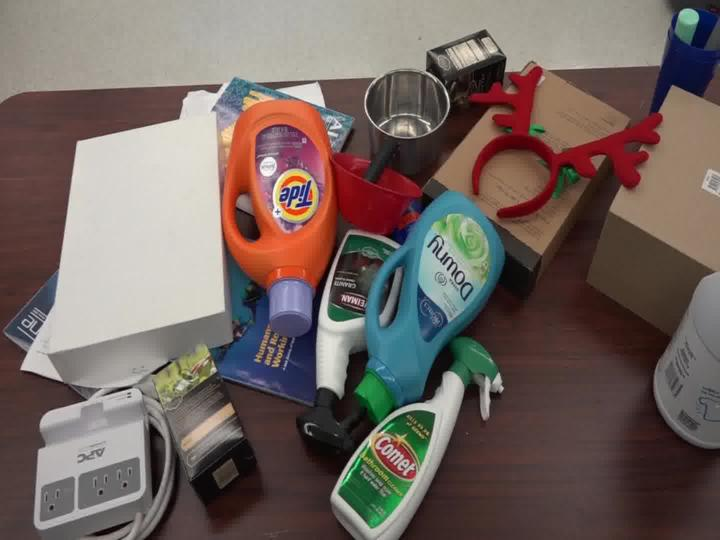downy: (335, 181, 516, 429)
